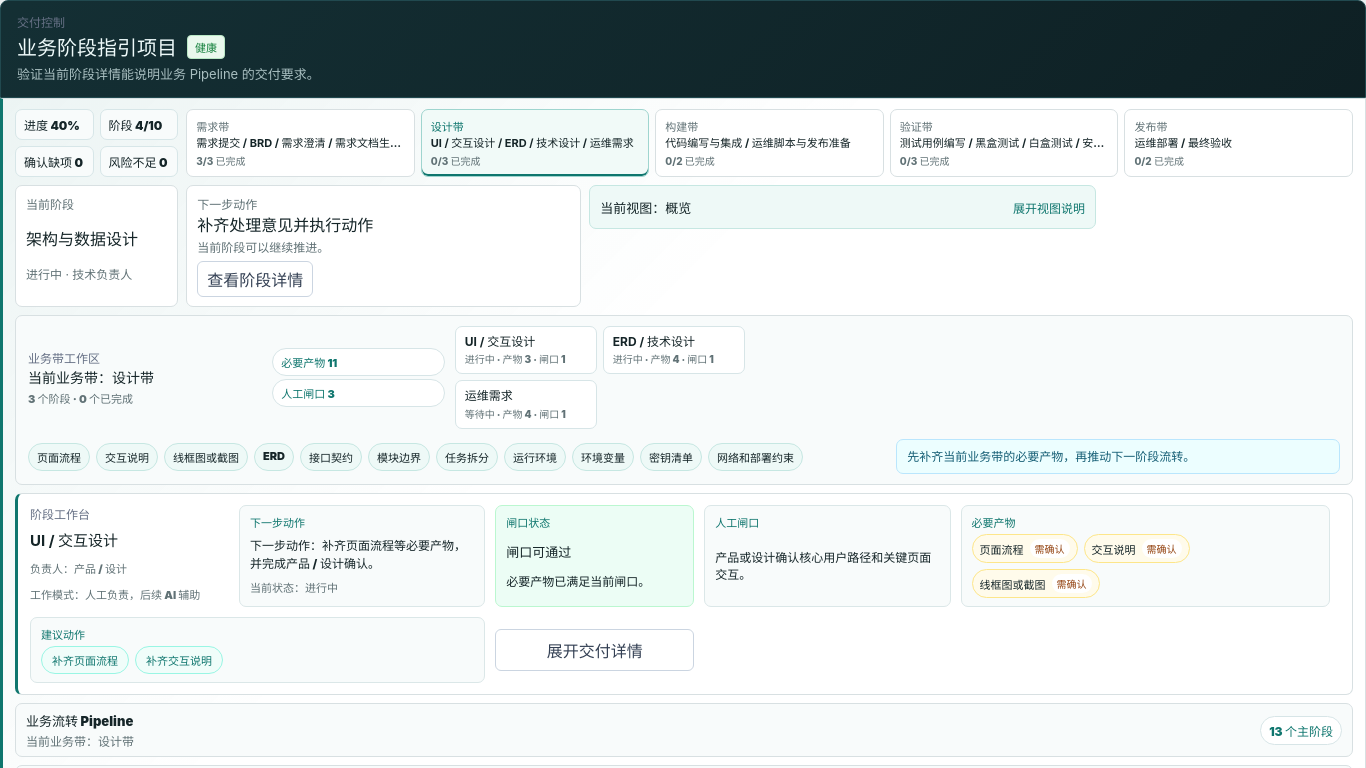
it: ProjectWorkspace › shows current pipeline stage guidance in the expanded stage detail
What coordinates should you click on to do the following:
click the button "查看阶段详情"
I would click on:
 (255, 279)
Its box is [197,261,313,297].
(page scrolled)
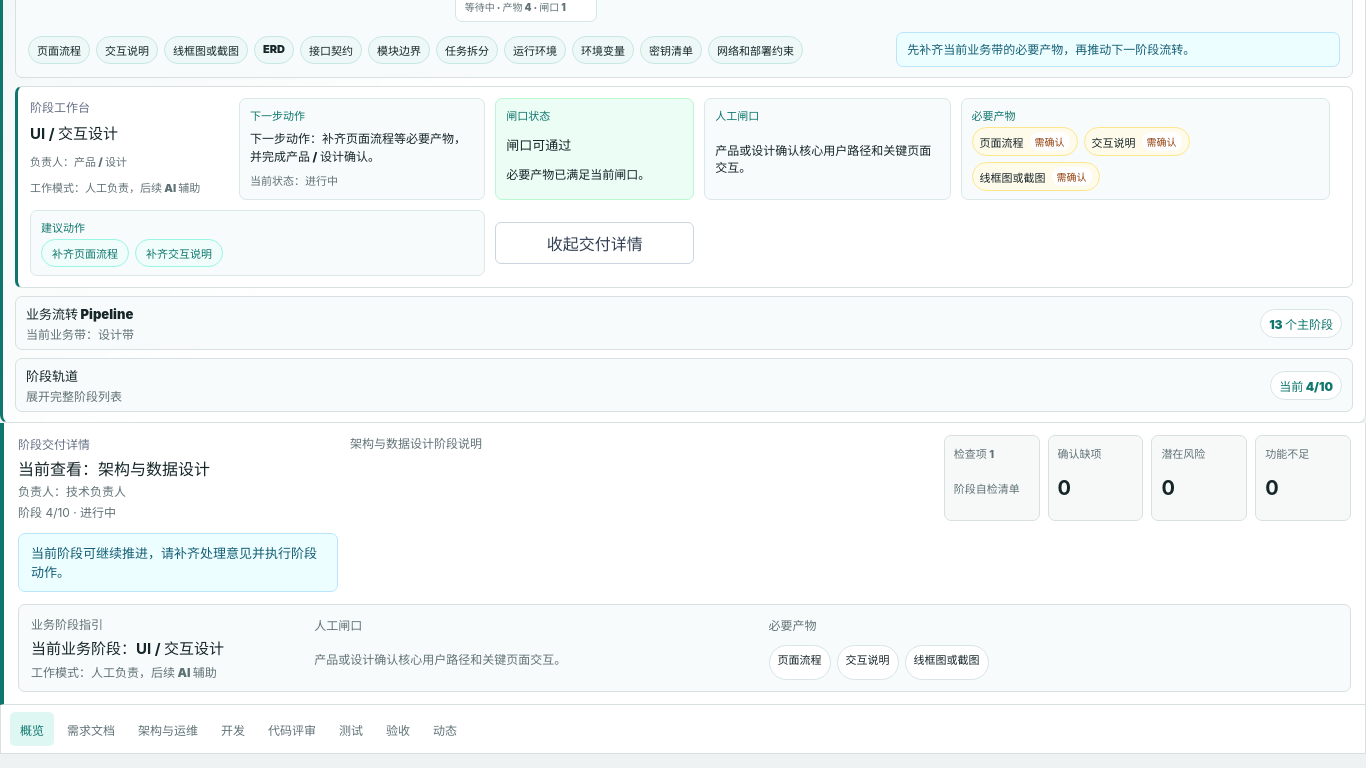
Expected: the text "当前业务阶段：UI / 交互设计" is shown, [31,639,224,658]
Expected: the text "工作模式：人工负责，后续 AI 辅助" below "当前业务阶段：UI / 交互设计" is shown, [31,665,217,680]
Expected: the text "人工闸口" next to "当前业务阶段：UI / 交互设计" is shown, [314,618,362,634]
